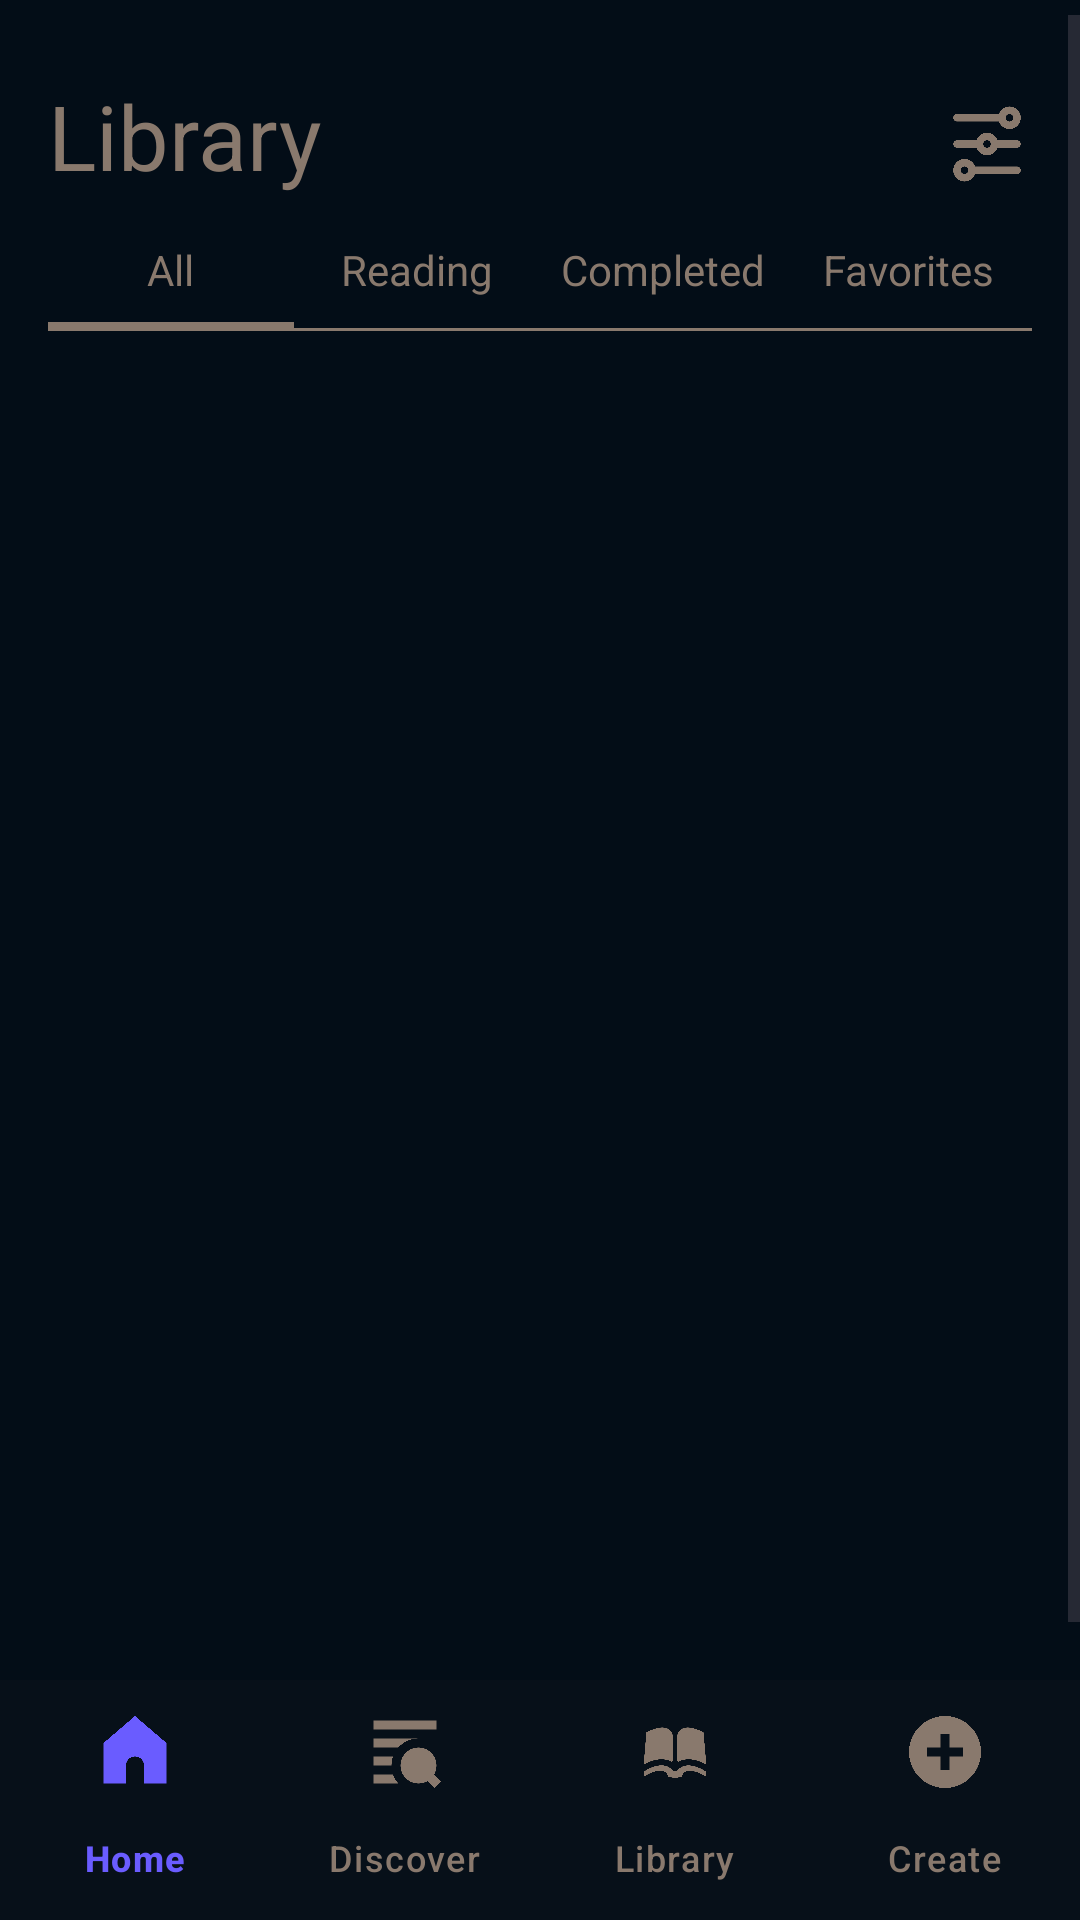

Where to tap for icons on this 1080 x 1920 app screen, as [x,y]:
filter: [987,144]
